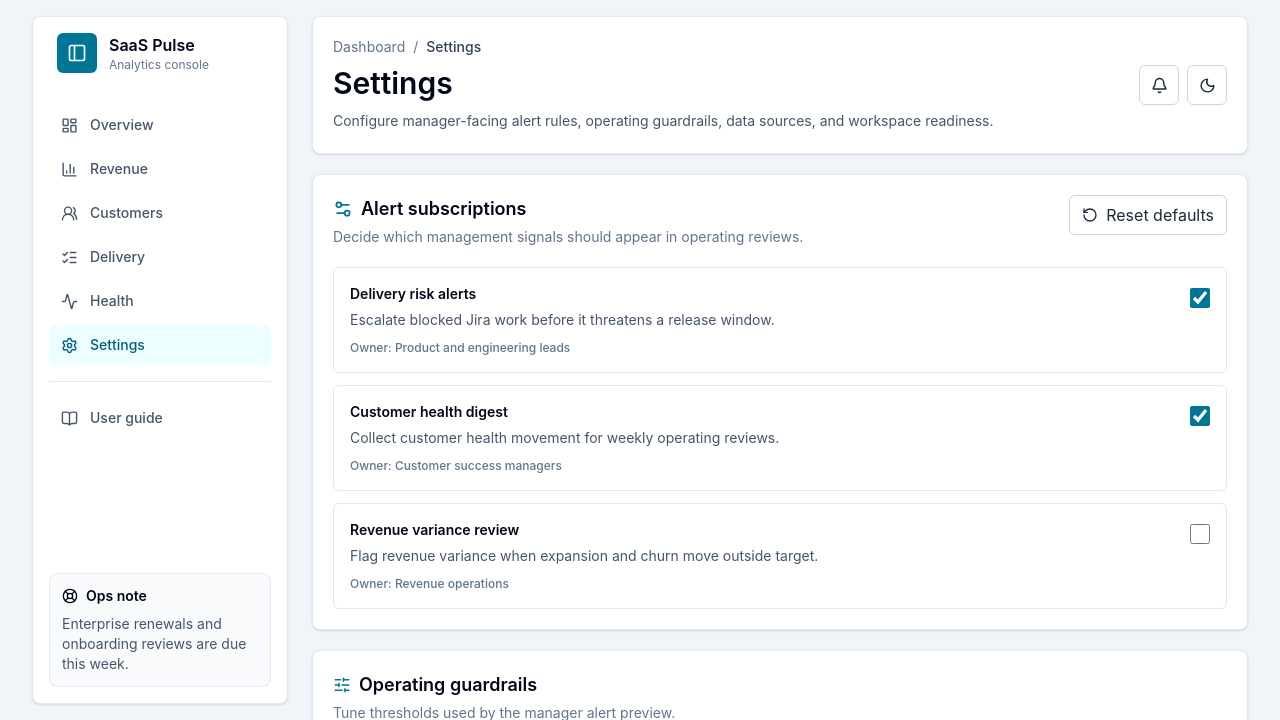
Test: SettingsPageClient › updates local alert subscriptions and guardrail preview state
The width and height of the screenshot is (1280, 720).
Click the checkbox labelled "Revenue variance review". click: (1200,534)
box: [1190,524,1210,544]
(page scrolled)
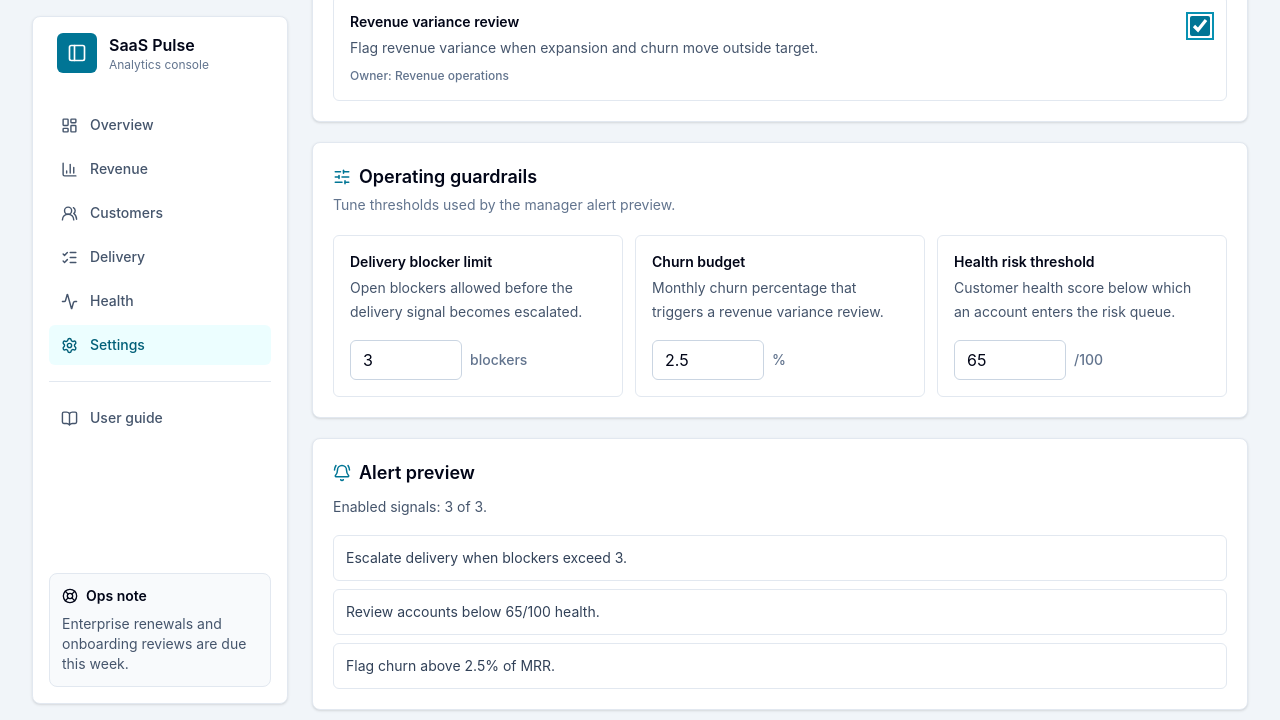
Result: the text "Enabled signals: 3 of 3." is shown at [333,498,487,515]
Result: the list item "Flag churn above 2.5% of MRR." is shown at [333,643,1227,689]
Replace the text in the number field labelled "Health risk threshold" with "72". click: (1010,360)
box: [954,340,1066,380]
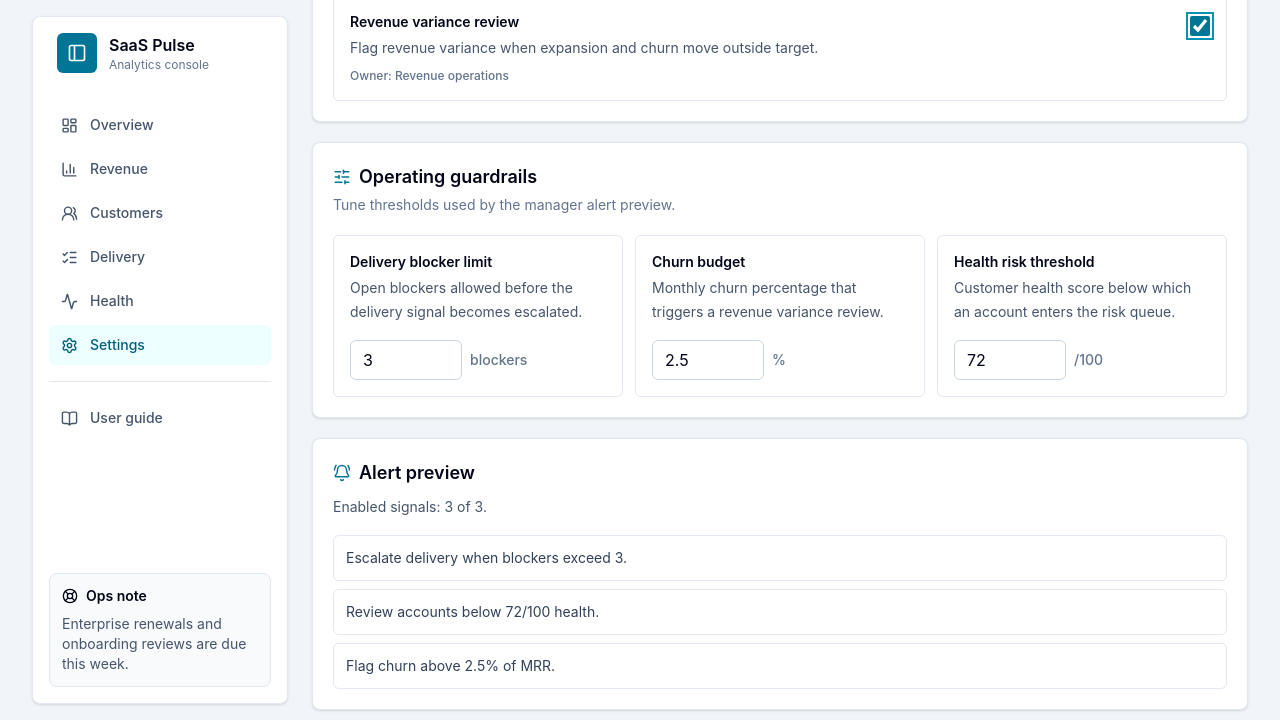
Result: the list item "Review accounts below 72/100 health." is shown at [333,589,1227,635]
